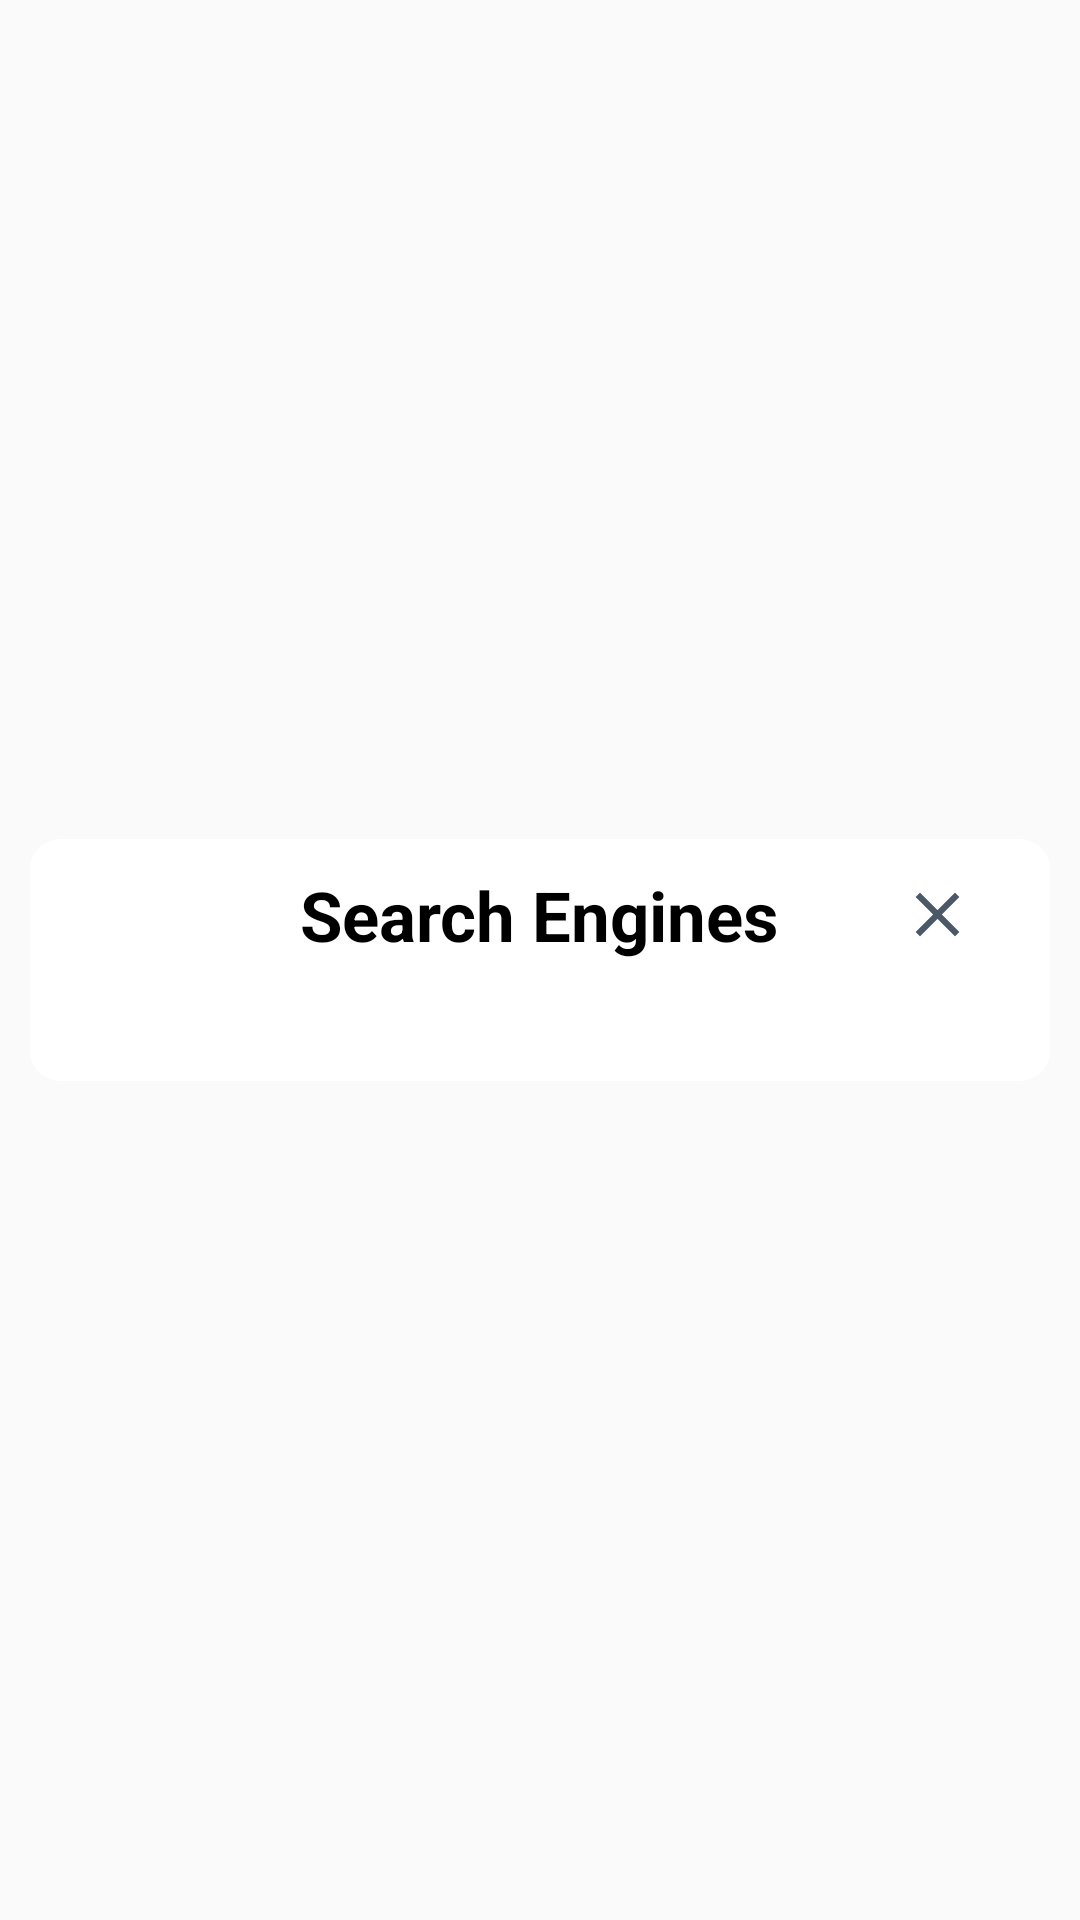

Named icons in this screenshot (1080 x 1920) and their bounding boxes, (x1, y1, x2, y2):
cross: (916, 893, 959, 936)
